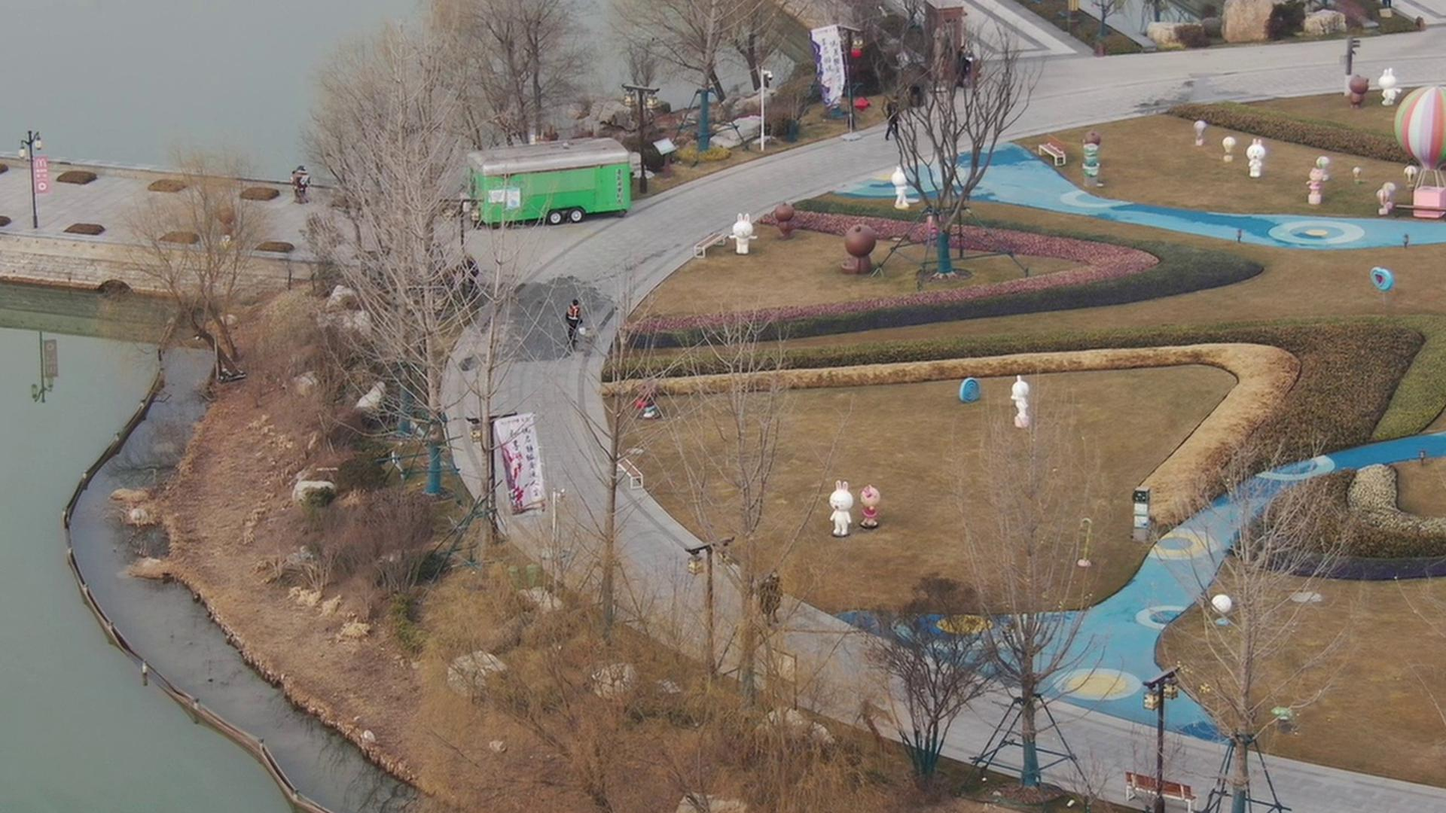class_2: (752, 563, 781, 632)
human: (881, 96, 905, 151), (561, 296, 583, 345), (458, 251, 481, 296)
